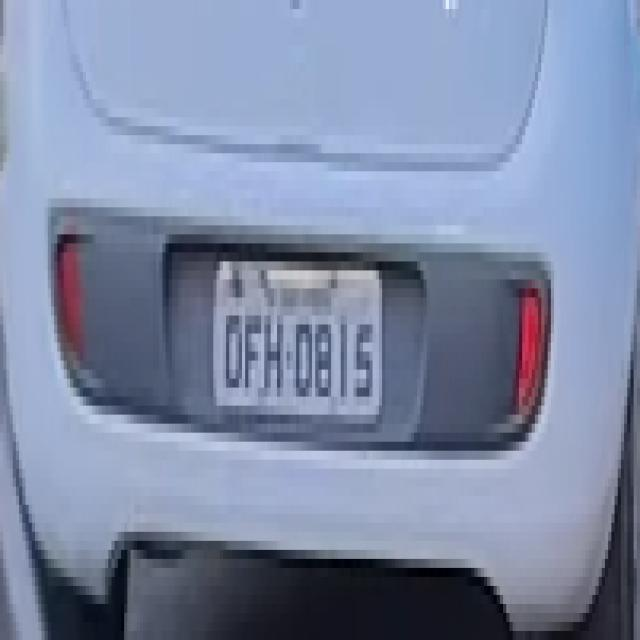Placa_mercosul_carro: (211, 257, 382, 417)
